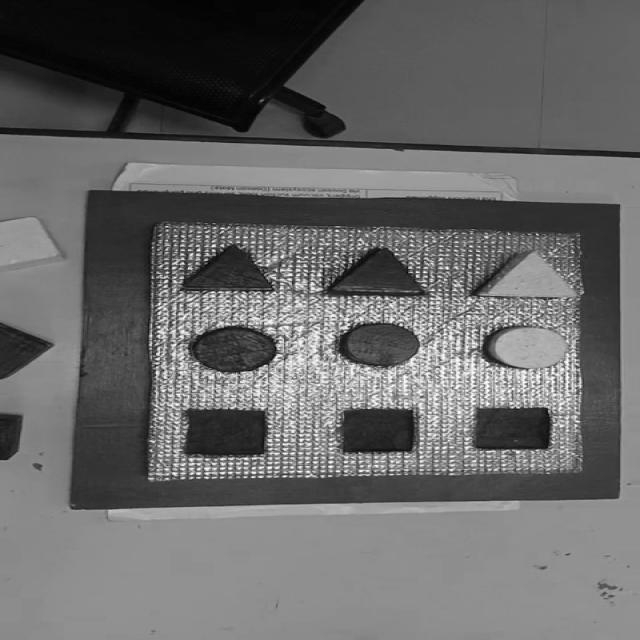bcircle: (189, 326, 280, 373)
bcube: (0, 415, 23, 459)
btriangle: (182, 244, 276, 291)
mtcube: (184, 408, 268, 456), (472, 406, 553, 450), (339, 408, 418, 453)
rcircle: (337, 321, 426, 368)
rtriangle: (327, 247, 428, 295)
wb: (140, 222, 593, 479)
ycircle: (482, 324, 572, 370)
ycube: (0, 216, 65, 272)
ytriangle: (474, 249, 582, 298)
